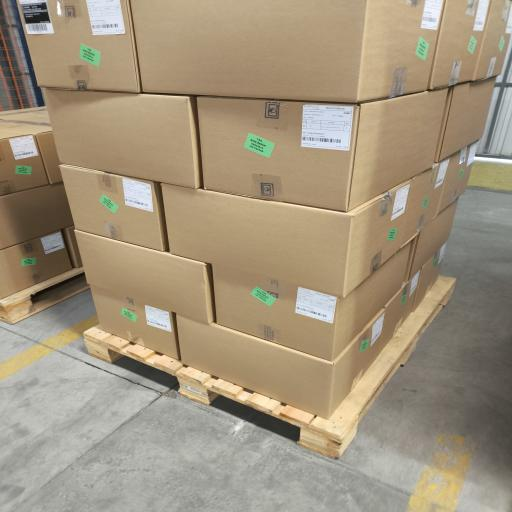pallet: (85, 277, 455, 458), (0, 268, 89, 324)
